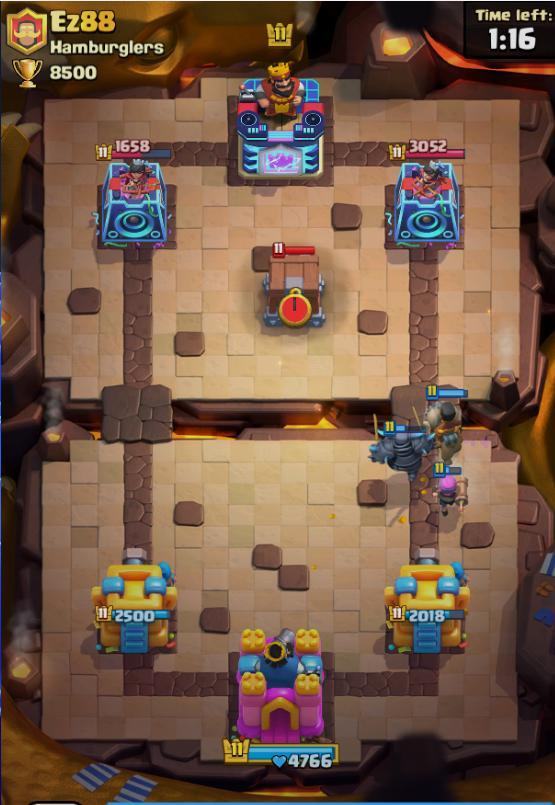EGoblinCage: (265, 239, 324, 327)
EKingTower: (235, 62, 333, 178)
EnemyPrincessTower: (93, 140, 176, 254), (386, 135, 468, 250)
OBigPekka: (378, 417, 425, 476)
OCannoneerTower: (91, 547, 180, 650), (384, 547, 472, 650)
OFirecrack: (435, 463, 465, 516)
ORamrider: (428, 383, 464, 444)
OwnKingTower: (223, 616, 339, 745)
